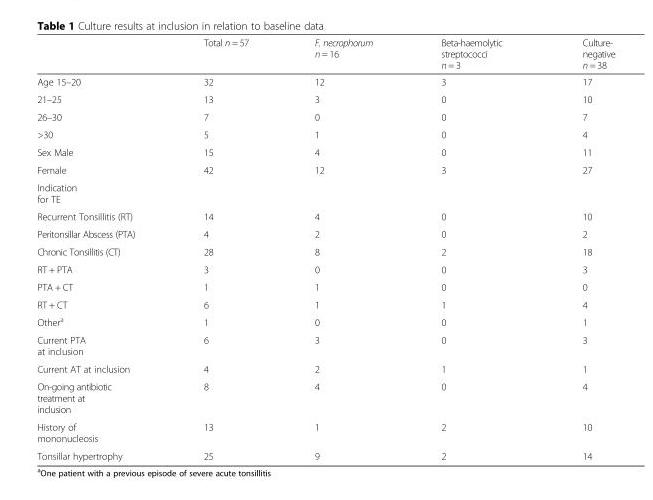table: (36, 36, 614, 461)
table column: (406, 36, 541, 461), (36, 36, 168, 461), (280, 36, 406, 461), (168, 36, 280, 461), (541, 36, 614, 461)
table column header: (36, 36, 614, 73)
table projected row header: (36, 178, 614, 207)
table row: (36, 377, 614, 417), (36, 36, 614, 73), (36, 178, 614, 207), (36, 330, 614, 359), (36, 417, 614, 446), (36, 107, 614, 125), (36, 125, 614, 143), (36, 160, 614, 178), (36, 224, 614, 242), (36, 242, 614, 260), (36, 277, 614, 295), (36, 312, 614, 330), (36, 359, 614, 377), (36, 73, 614, 90), (36, 90, 614, 107), (36, 143, 614, 160), (36, 207, 614, 224), (36, 260, 614, 277), (36, 295, 614, 312), (36, 446, 614, 461)
